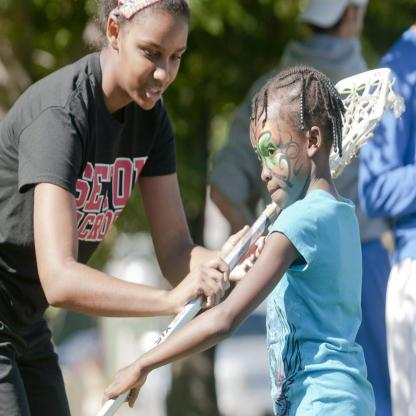face: (252, 106, 308, 209), (125, 16, 186, 110)
